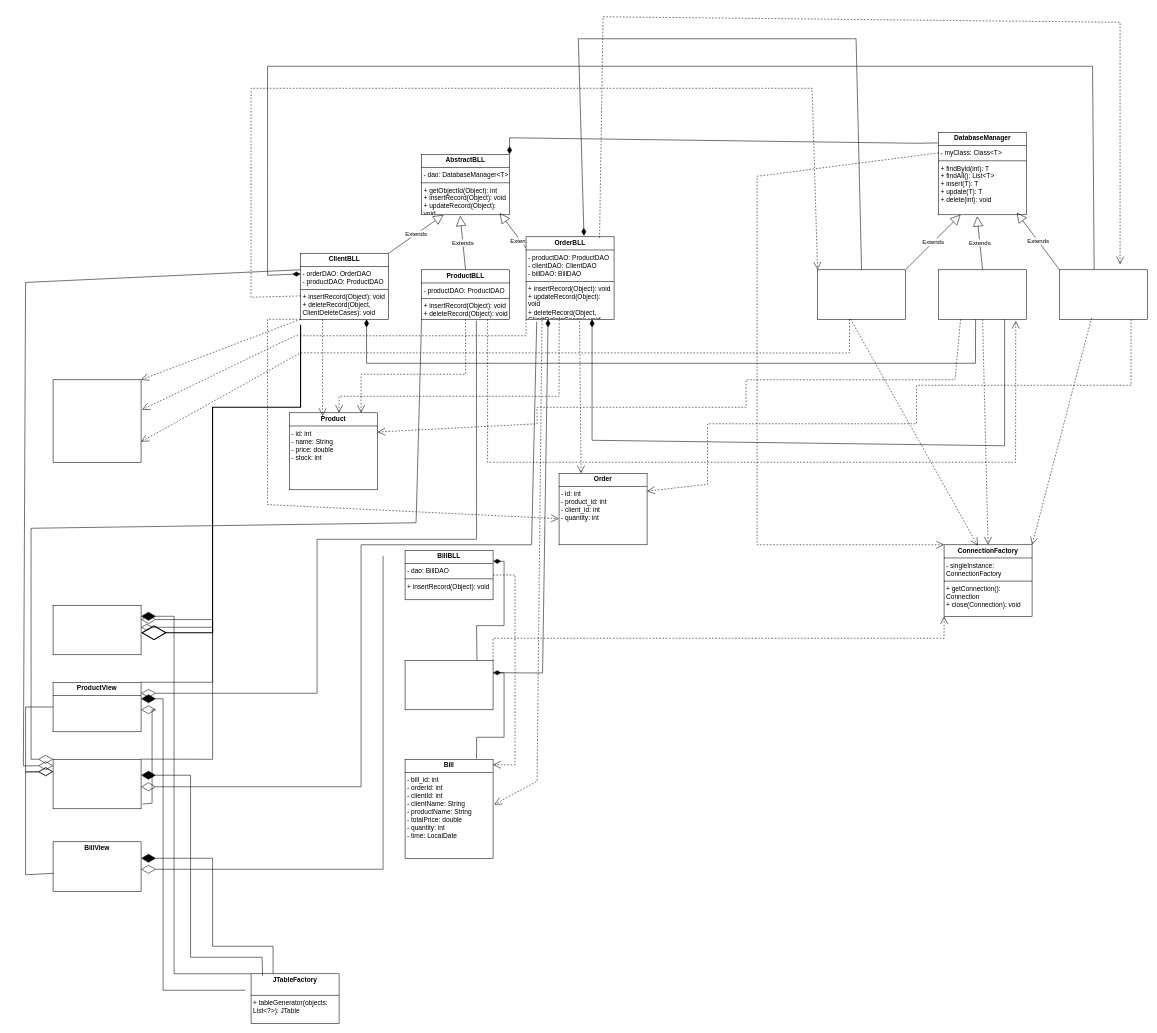
The diagram is 1157 pixels wide and 1033 high, and some of its shapes have lost their labels. Here are the shapes that lost their labels. From the top down, the centre of each, then its label:
At point (861, 294): "ClientDAO".
At point (982, 294): "ProductDAO".
At point (1103, 294): "OrderDAO + findByClientId(int): List<Order>".
At point (97, 420): "Client - id: int - name: String - address: String - email: String".
At point (97, 630): "ClientView".
At point (449, 685): "BillDAO + findAll(): List<Bill> + insert(Bill): Bill".
At point (97, 784): "OrderView".
